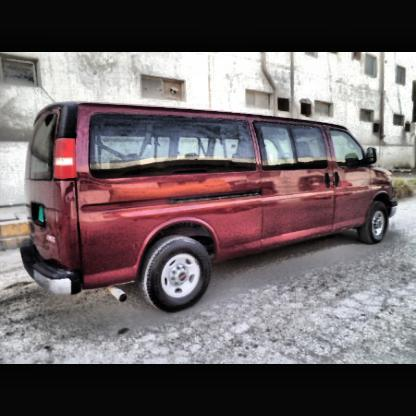GMC Savana Van 2012: (22, 102, 397, 314)
